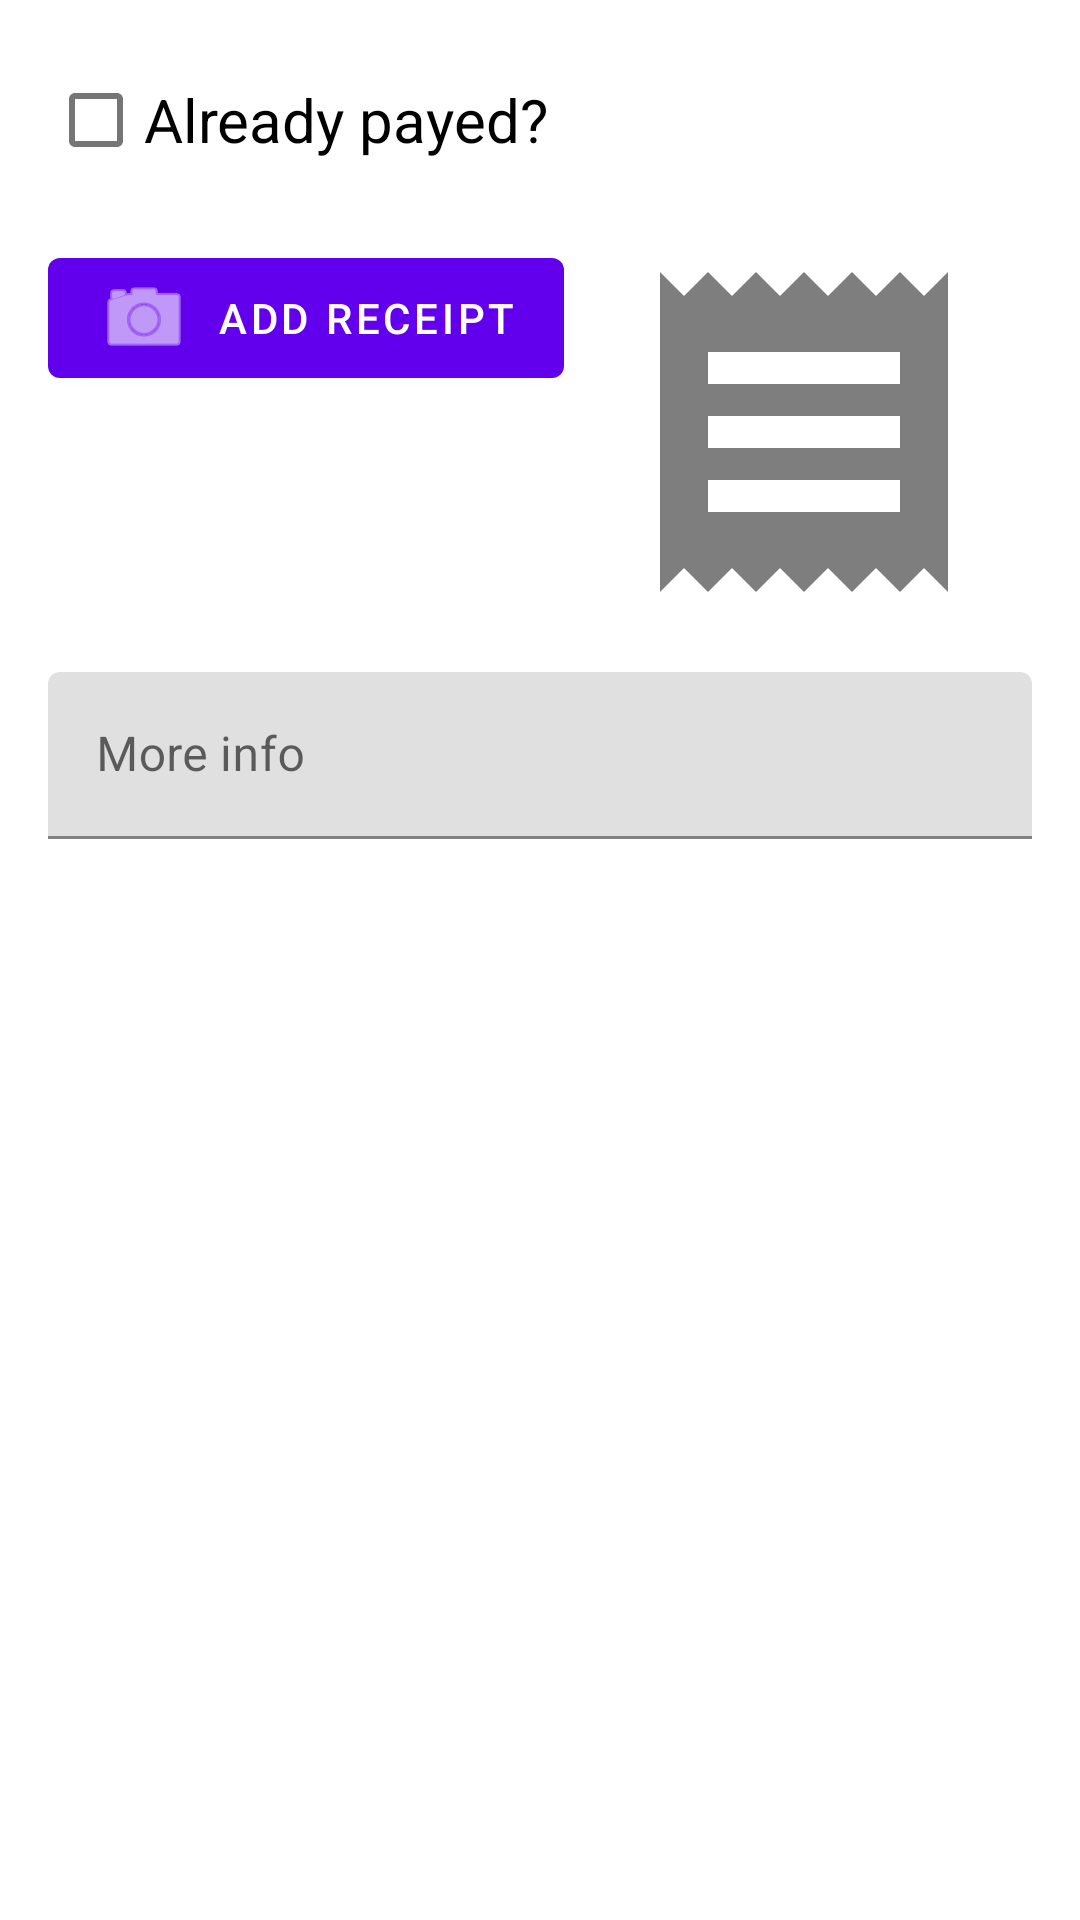

Icon bounding boxes for this 1080 × 1920 phone screenshot, format (x1, y1, x2, y2):
Preview of receipt: (660, 272, 948, 592)
